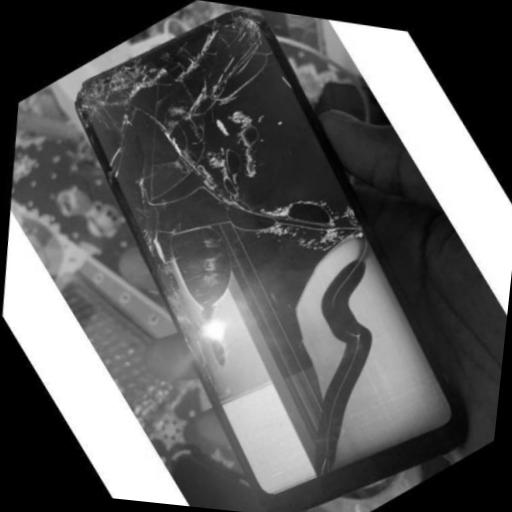phone: (76, 10, 460, 509)
